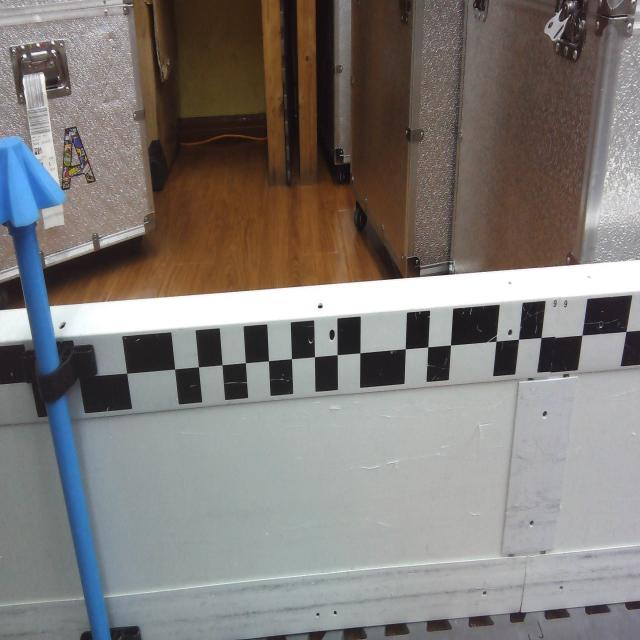zblue-Stake-Head: (0, 136, 67, 228)
